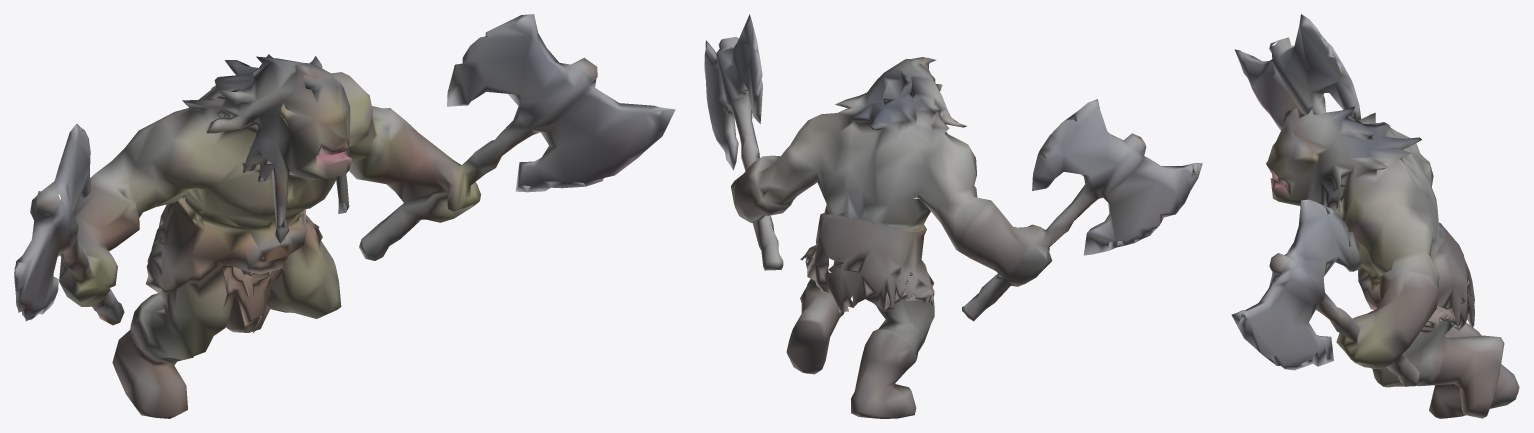
The model's file is raider.glb.
3 views of the same model, side by side, from view 1: azimuth 30°, elevation 25°; view 2: azimuth 150°, elevation 25°; view 3: azimuth 270°, elevation 25° (orthographic). The views are drawn at different scales.
Bounding box in the file's own units: 0.994 × 0.5706 × 0.4541.
